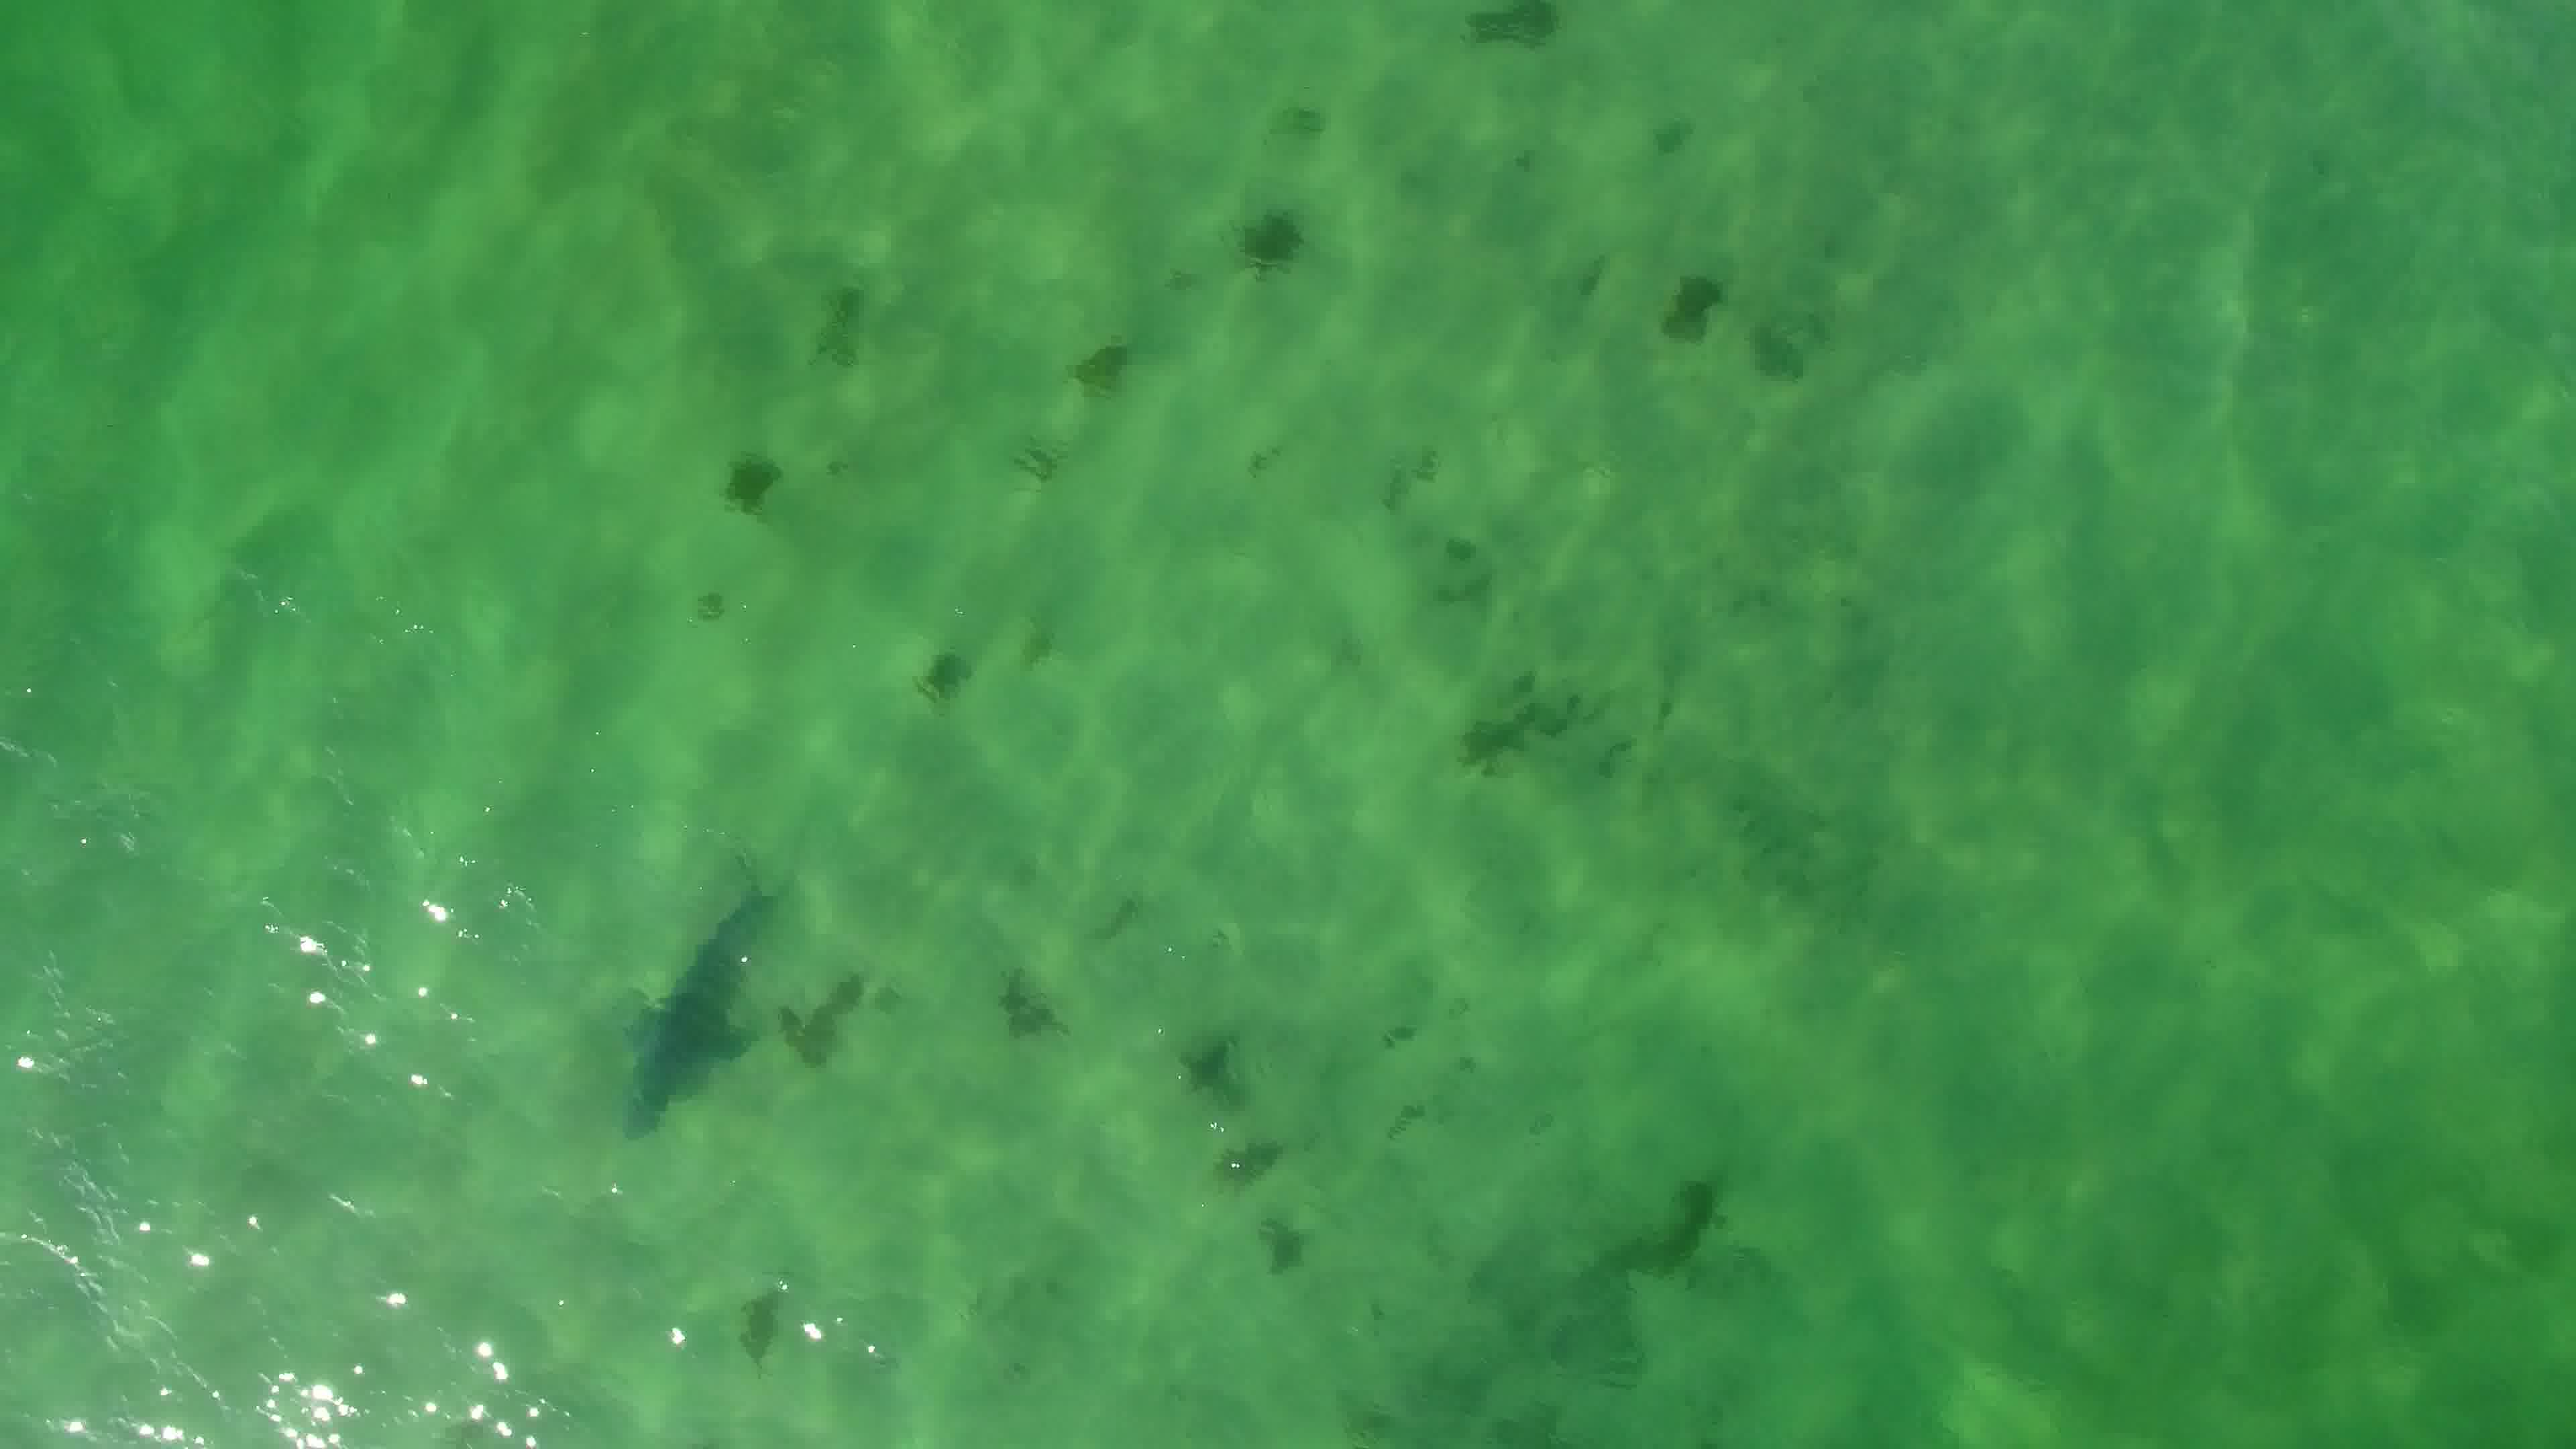shark: (602, 863, 784, 1150)
